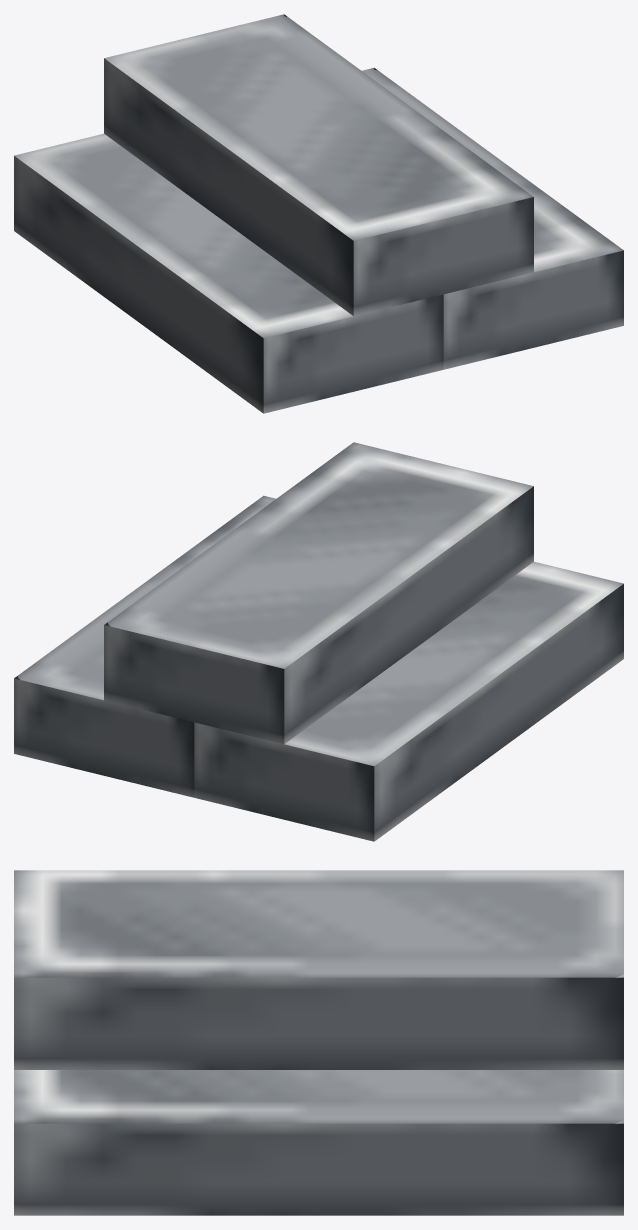
The model's file is silverbars.obj.
3 renders of one model, top to bottom at view 1: azimuth 30°, elevation 25°; view 2: azimuth 150°, elevation 25°; view 3: azimuth 270°, elevation 25°, orthographic. The views are drawn at different scales.
Visible parts, largest first — view 1: cube; view 2: cube; view 3: cube.
Boxes of the visible parts, left/top/right/bottom form: cube: left=14, top=14, right=623, bottom=413; cube: left=14, top=442, right=623, bottom=841; cube: left=14, top=870, right=623, bottom=1215.
Bounding box in the file's own units: 0.625 × 0.25 × 0.75.
Materials: 1 (1 with a texture image).
